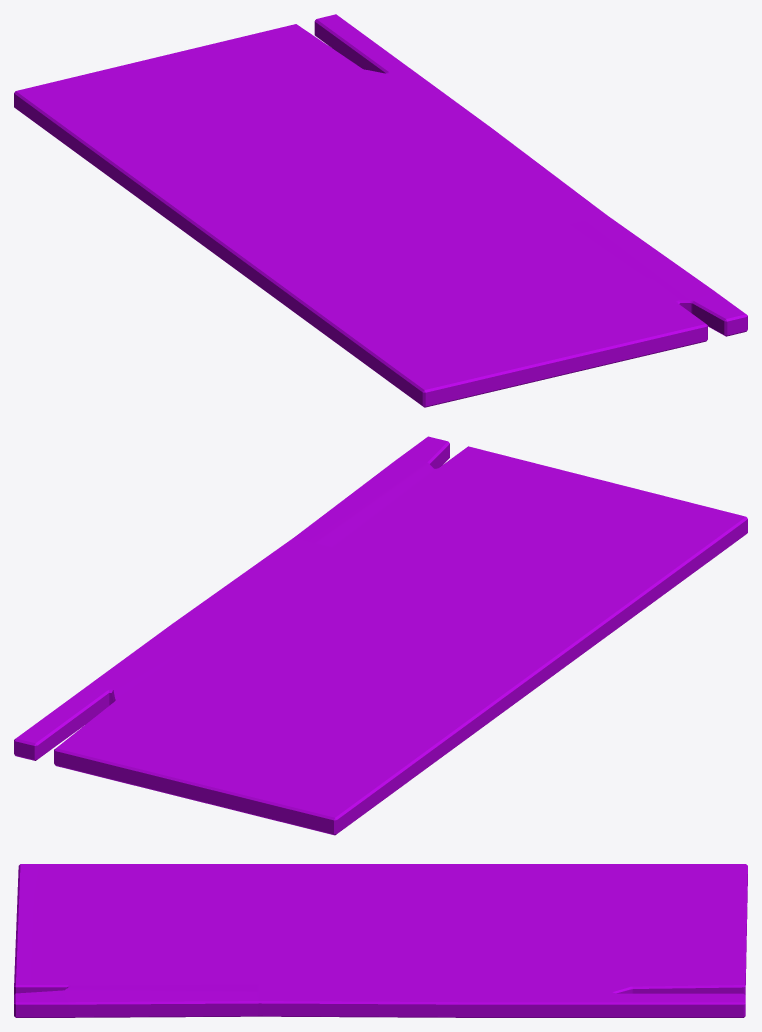
The model's file is Board_03.fbx.
3 views of the same model, one above another, from view 1: azimuth 30°, elevation 25°; view 2: azimuth 150°, elevation 25°; view 3: azimuth 270°, elevation 25° (orthographic). The views are drawn at different scales.
Visible parts, largest first — view 1: Board_03; view 2: Board_03; view 3: Board_03.
Boxes of the visible parts, x1,y1,x2,y2 form: Board_03: (14, 14, 747, 407); Board_03: (14, 436, 747, 835); Board_03: (14, 864, 747, 1017).
Bounding box in the file's own units: 166 × 8.96 × 368.
